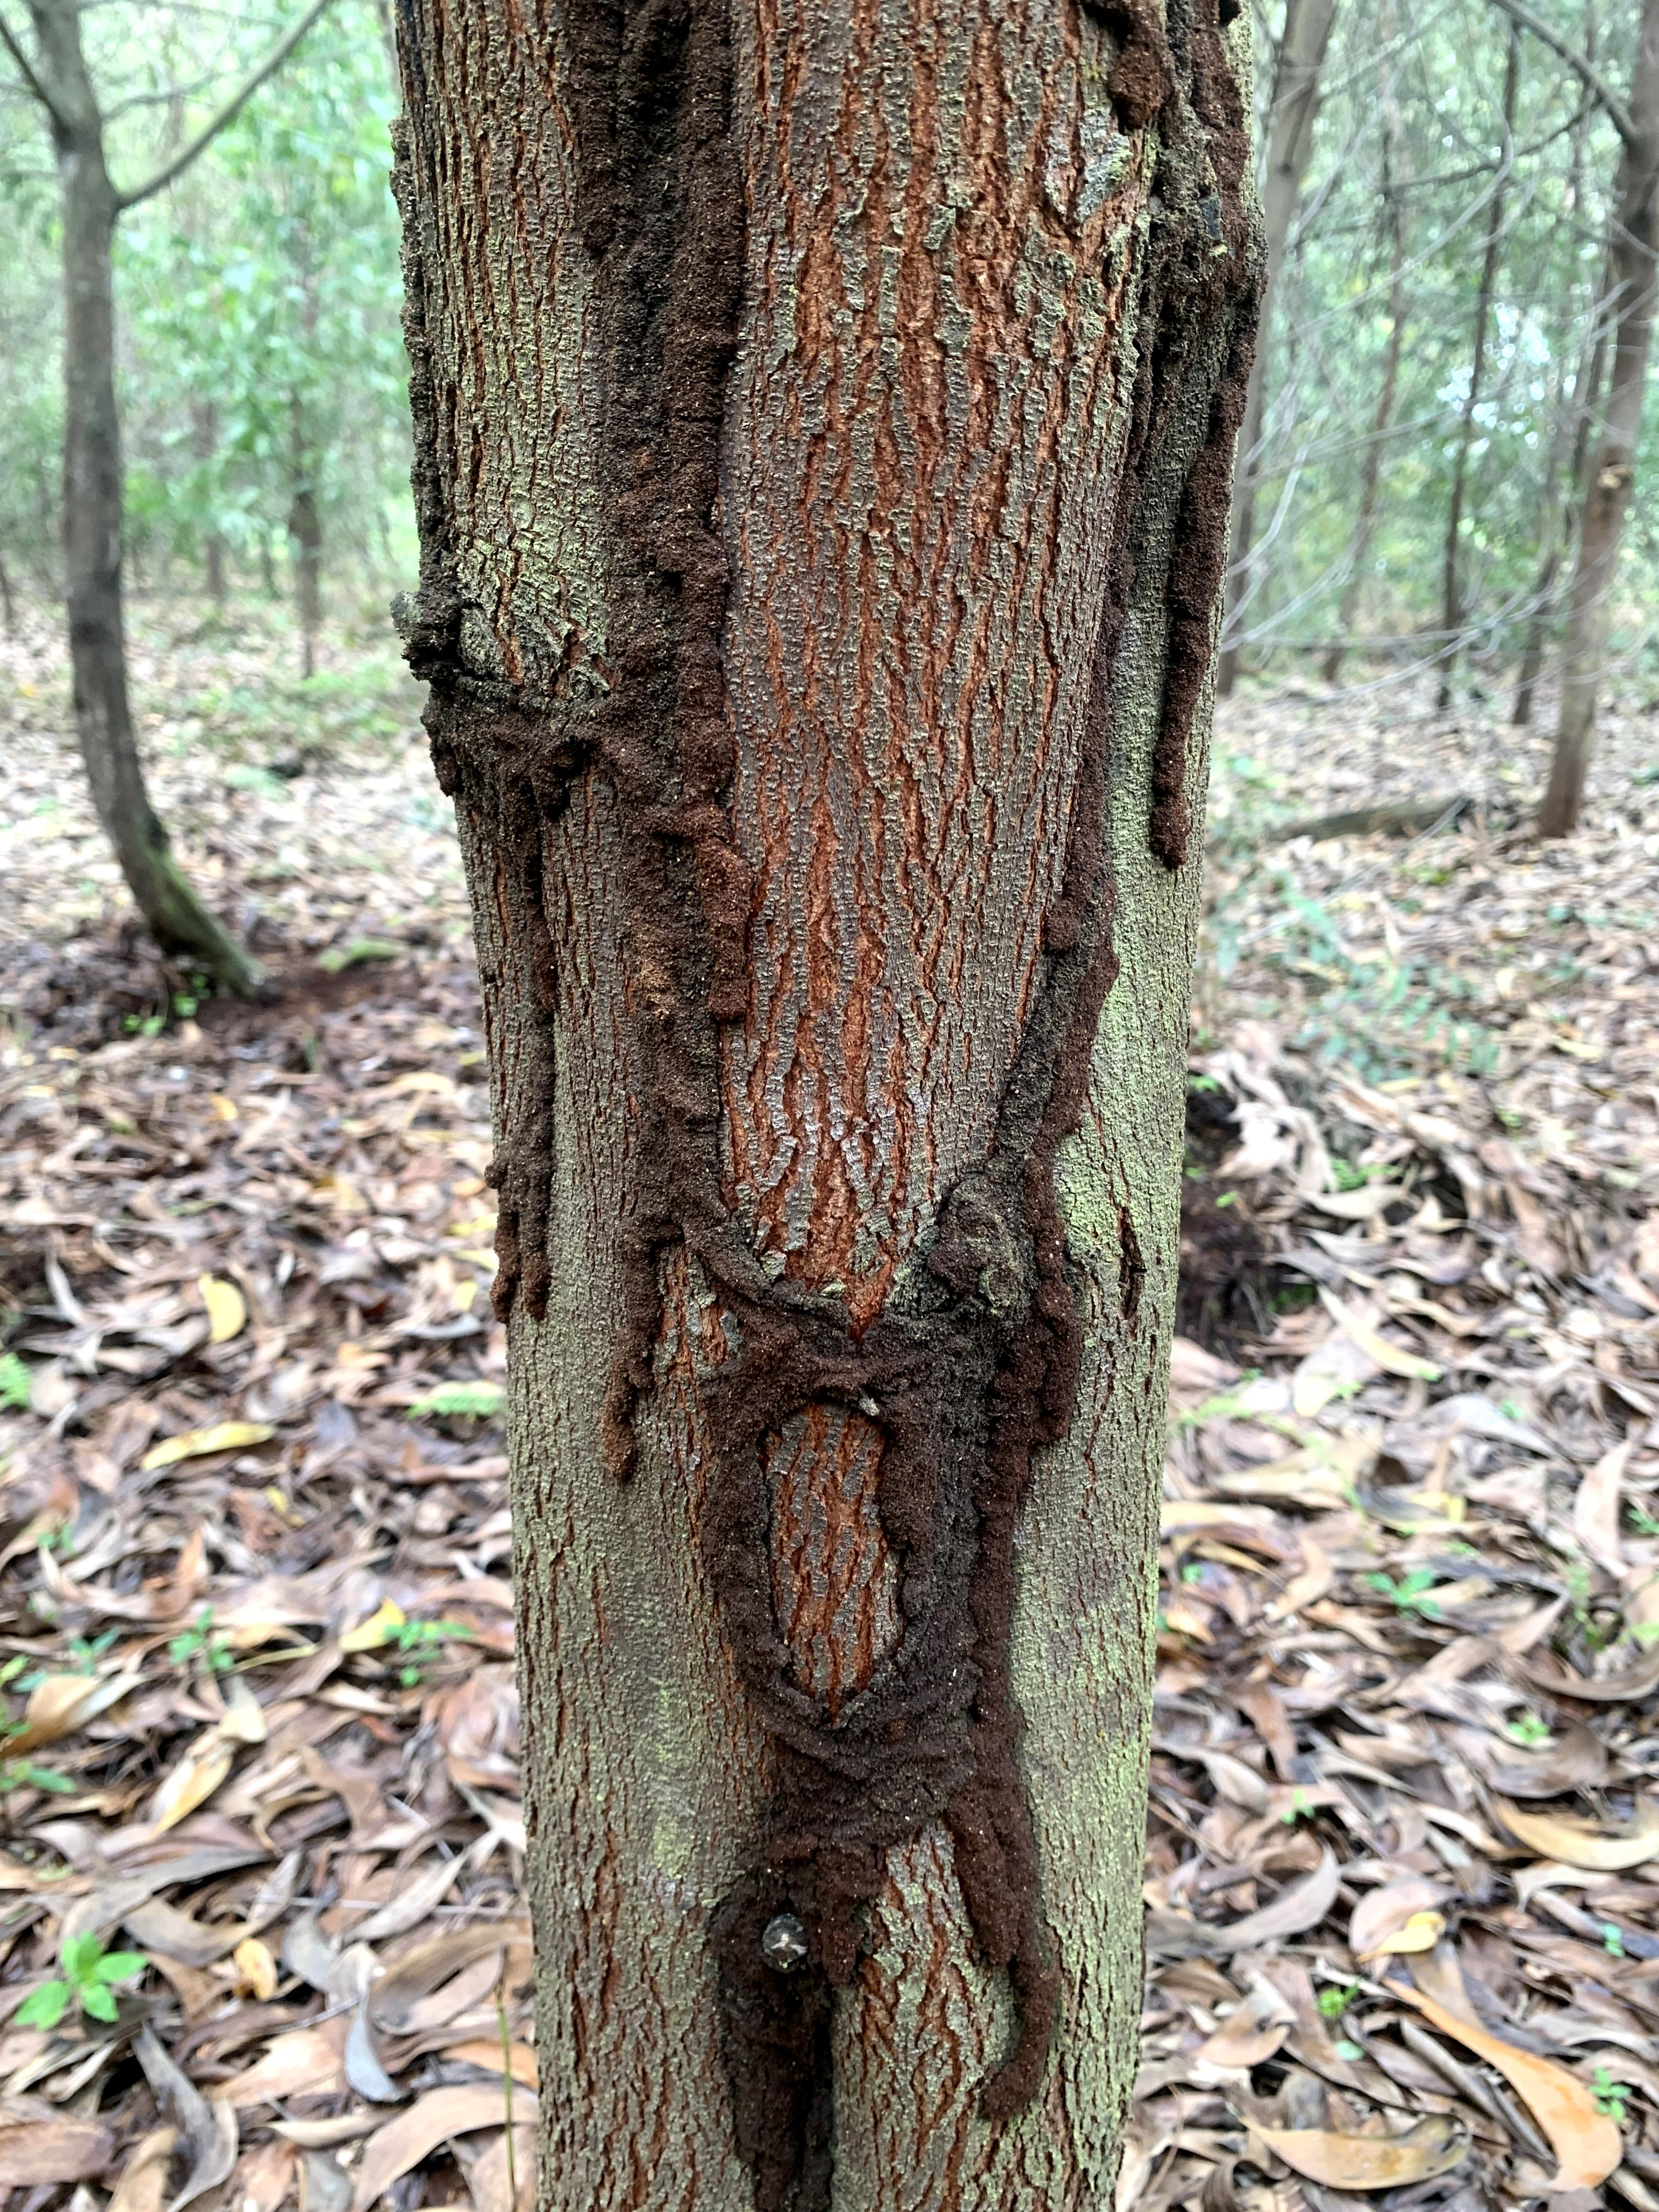Termite - Nest: (533, 12, 1209, 2212)
